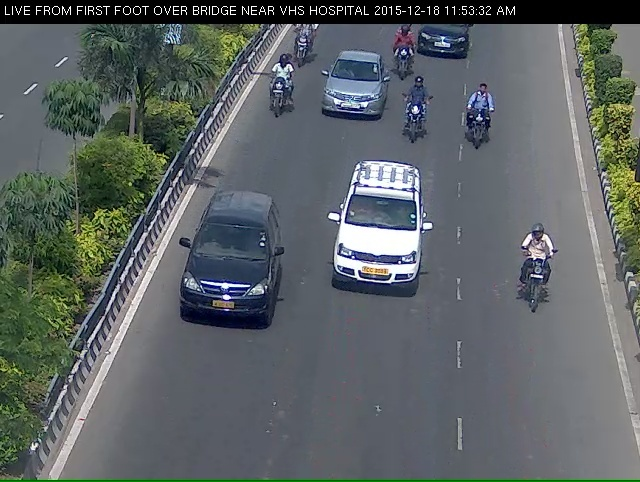Car: (174, 203, 278, 361), (334, 179, 422, 318), (322, 57, 381, 140), (416, 22, 474, 66)
Person: (526, 237, 553, 340), (256, 63, 290, 131), (466, 92, 494, 171), (403, 91, 429, 164), (389, 31, 415, 94), (285, 24, 313, 74)
